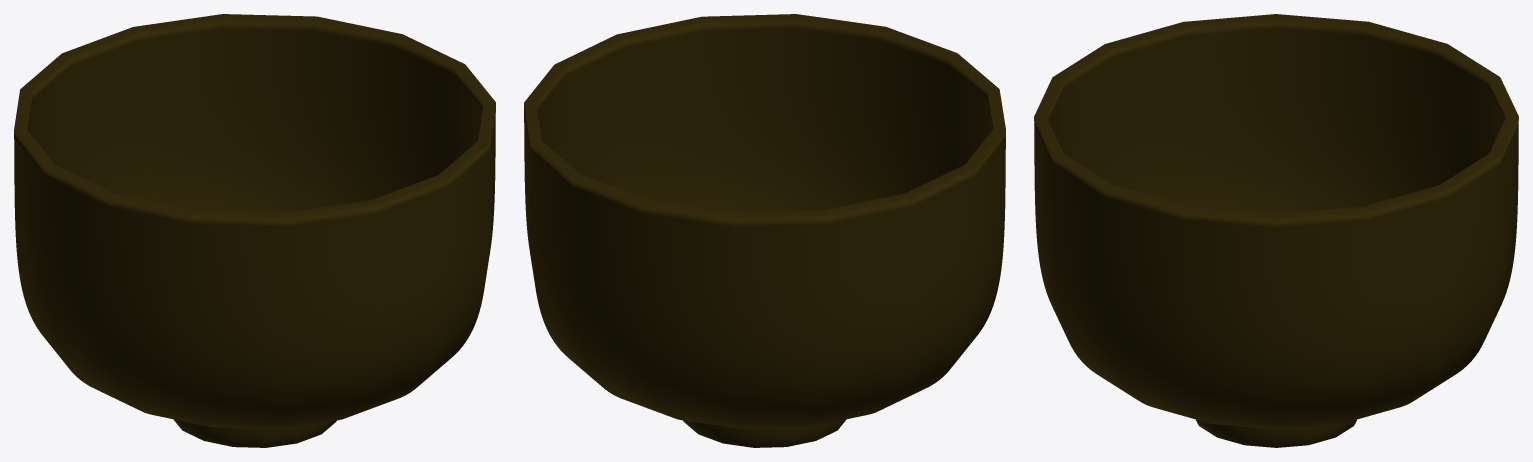
The model's file is chawan2.fbx.
3 renders of one model, left to right at view 1: azimuth 30°, elevation 25°; view 2: azimuth 150°, elevation 25°; view 3: azimuth 270°, elevation 25°, orthographic.
Visible parts, largest first — view 1: NURBSパス.001; view 2: NURBSパス.001; view 3: NURBSパス.001.
Boxes of the visible parts, x1,y1,x2,y2 form: NURBSパス.001: (14,14,495,447); NURBSパス.001: (524,14,1005,447); NURBSパス.001: (1034,14,1518,447).
Size of the model in its own units: 803 by 541 by 803.
